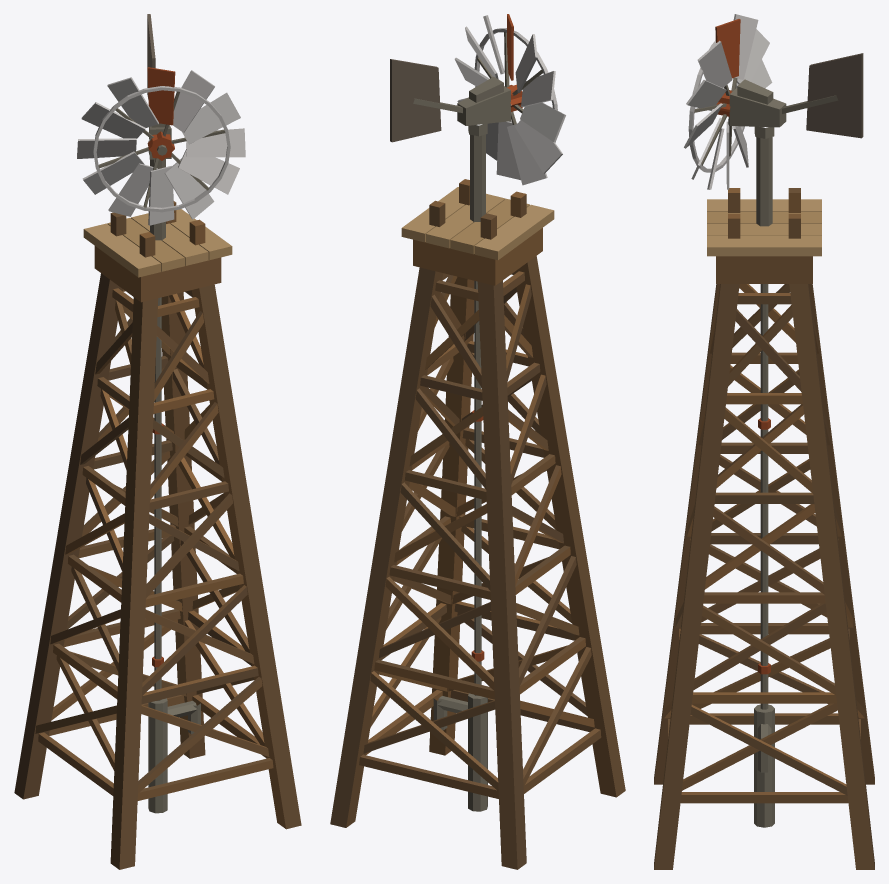
Rendered from windpump-tower-1633a9.glb.
3 views of the same model, side by side, from view 1: azimuth 30°, elevation 25°; view 2: azimuth 150°, elevation 25°; view 3: azimuth 270°, elevation 25° (orthographic). The views are drawn at different scales.
Visible parts, largest first — view 1: tower, fan-wheel; view 2: tower, fan-wheel, tail-body, head; view 3: tower, fan-wheel, tail-body, head.
Part boxes in pixels (left/top/right/bottom): tower: left=14, top=159, right=301, bottom=869; fan-wheel: left=77, top=67, right=245, bottom=225; tower: left=330, top=134, right=625, bottom=869; fan-wheel: left=454, top=14, right=565, bottom=185; tail-body: left=390, top=59, right=462, bottom=142; head: left=457, top=76, right=510, bottom=136; tower: left=654, top=137, right=874, bottom=869; fan-wheel: left=684, top=14, right=772, bottom=189; tail-body: left=782, top=53, right=863, bottom=138; head: left=729, top=79, right=786, bottom=138.
Bounding box in the file's own units: 2 × 7.93 × 2.
